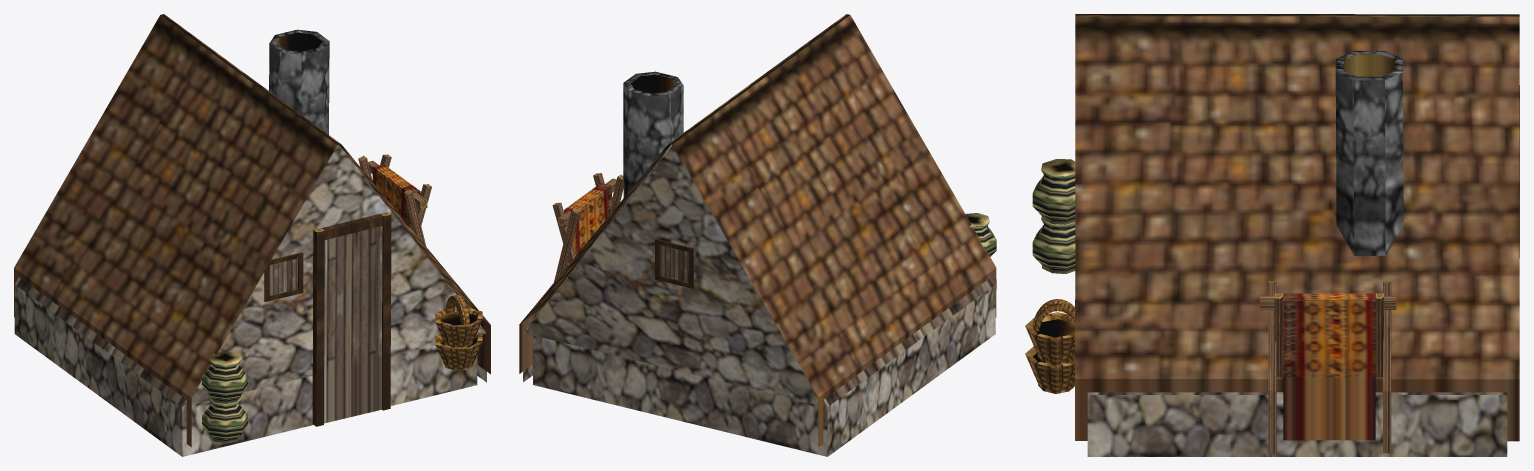
Rendered from house_1.dae.
3 views of the same model, side by side, from view 1: azimuth 30°, elevation 25°; view 2: azimuth 150°, elevation 25°; view 3: azimuth 270°, elevation 25° (orthographic). The views are drawn at different scales.
Parts seen in each view (by area): view 1: house_1; view 2: house_1; view 3: house_1.
Part boxes in pixels (<box>): house_1: <box>14,14,490,456</box>; house_1: <box>519,14,996,456</box>; house_1: <box>1025,14,1519,456</box>.
Bounding box in the file's own units: 11.64 × 12.29 × 9.56.
